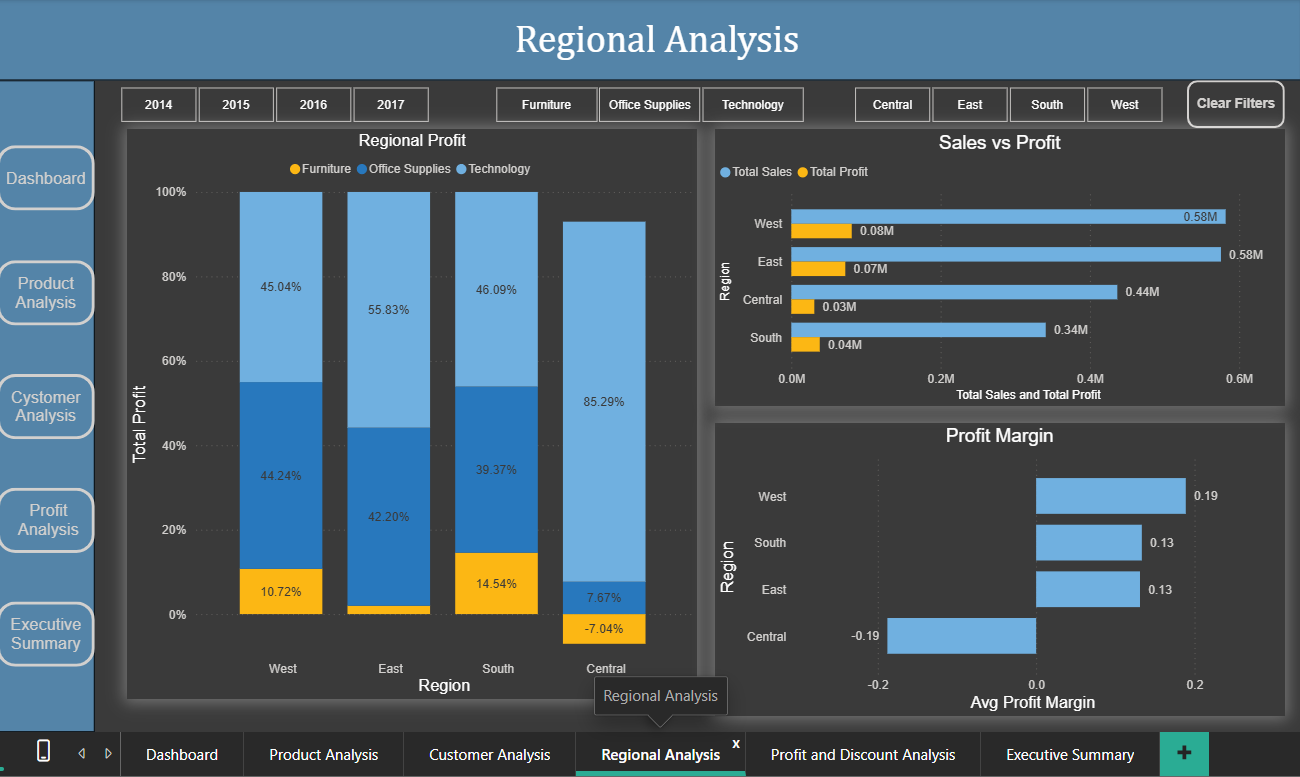

The dashboard page shown, as its layout file describes it:
{"tool":"powerbi","page":{"name":"Regional Analysis","canvas":[1280,720],"ordinal":3},"visuals":[{"type":"slicer","fields":{"Values":["Sample - Superstore.year"]},"box":[96,80,352,48],"z":0},{"type":"slicer","fields":{"Values":["Sample - Superstore.Category"]},"box":[464,80,352,48],"z":1000},{"type":"slicer","fields":{"Values":["Sample - Superstore.Region"]},"box":[816,80,352,48],"z":2000},{"type":"shape","box":[0,80,96,640],"z":3000},{"type":"actionButton","box":[0,144,96,64],"z":4000},{"type":"actionButton","box":[0,256,96,64],"z":5000},{"type":"actionButton","box":[0,368,96,64],"z":6000},{"type":"actionButton","box":[0,480,96,64],"z":7000},{"type":"shape","box":[0,0,1280,80],"z":8000},{"type":"actionButton","box":[1168,80,96,47],"z":9000},{"type":"textbox","box":[400,0,496,80],"z":10000},{"type":"barChart","title":"Profit Margin","fields":{"Y":["Sample - Superstore.Avg Profit Margin"],"Category":["Sample - Superstore.Region"]},"box":[704,416,560,288],"z":11000},{"type":"clusteredBarChart","title":"Sales vs Profit","fields":{"Category":["Sample - Superstore.Region"],"Y":["Sample - Superstore.Total Sales","Sample - Superstore.Total Profit"]},"box":[704,128,560,272],"z":12000},{"type":"hundredPercentStackedColumnChart","title":"Regional Profit","fields":{"Category":["Sample - Superstore.Region"],"Y":["Sample - Superstore.Total Profit"],"Series":["Sample - Superstore.Category"]},"box":[128,128,560,560],"z":14000},{"type":"actionButton","box":[0,592,96,64],"z":14001}]}

Visuals, with their boxes on the page's 1280x720 design canvas (x1, y1, x2, y2). These are canvas units, not pixel positions in the 1300x777 screenshot, which may show the page scaled, cropped or inside an application window:
slicer - Sample - Superstore.year: pyautogui.locateOnScreen(96, 80, 448, 128)
slicer - Sample - Superstore.Category: pyautogui.locateOnScreen(464, 80, 816, 128)
slicer - Sample - Superstore.Region: pyautogui.locateOnScreen(816, 80, 1168, 128)
shape: pyautogui.locateOnScreen(0, 80, 96, 720)
actionButton: pyautogui.locateOnScreen(0, 144, 96, 208)
actionButton: pyautogui.locateOnScreen(0, 256, 96, 320)
actionButton: pyautogui.locateOnScreen(0, 368, 96, 432)
actionButton: pyautogui.locateOnScreen(0, 480, 96, 544)
shape: pyautogui.locateOnScreen(0, 0, 1280, 80)
actionButton: pyautogui.locateOnScreen(1168, 80, 1264, 127)
textbox: pyautogui.locateOnScreen(400, 0, 896, 80)
"Profit Margin" barChart: pyautogui.locateOnScreen(704, 416, 1264, 704)
"Sales vs Profit" clusteredBarChart: pyautogui.locateOnScreen(704, 128, 1264, 400)
"Regional Profit" hundredPercentStackedColumnChart: pyautogui.locateOnScreen(128, 128, 688, 688)
actionButton: pyautogui.locateOnScreen(0, 592, 96, 656)
